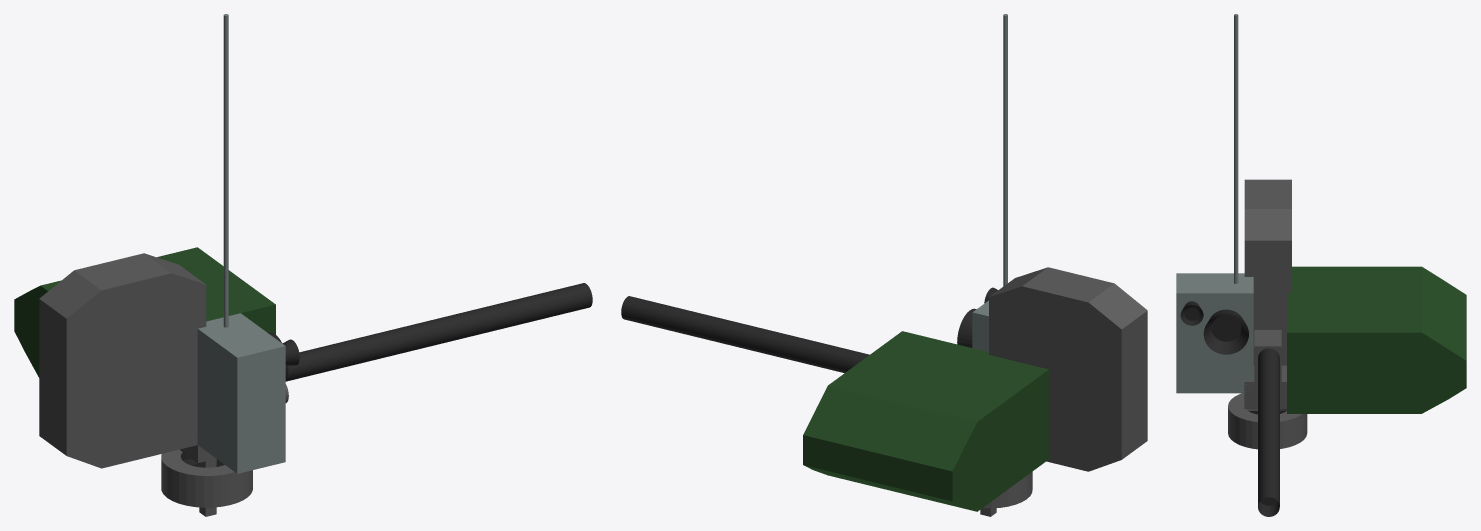
File: Sentry_Top_3.fbx
3 renders of one model, left to right at view 1: azimuth 30°, elevation 25°; view 2: azimuth 150°, elevation 25°; view 3: azimuth 270°, elevation 25°, orthographic. The views are drawn at different scales.
Parts seen in each view (by area): view 1: Cube.013; view 2: Cube.013; view 3: Cube.013.
Boxes of the visible parts, x1,y1,x2,y2 form: Cube.013: [14, 14, 592, 516]; Cube.013: [621, 14, 1147, 516]; Cube.013: [1176, 14, 1466, 516].
Size of the model in its own units: 46.22 by 42.31 by 25.29.
